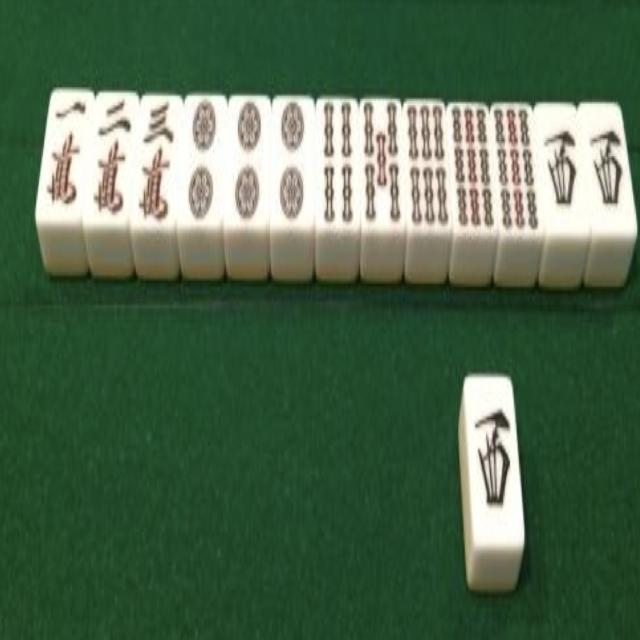bamboos_4: (315, 92, 361, 233)
bamboos_5: (358, 95, 406, 237)
bamboos_6: (402, 96, 452, 238)
bamboos_9: (445, 98, 499, 239), (491, 98, 545, 236)
characters_1: (36, 86, 94, 222)
characters_2: (83, 87, 140, 227)
characters_3: (131, 90, 183, 230)
circles_2: (178, 90, 227, 233), (268, 92, 315, 234), (226, 90, 270, 233)
west: (464, 374, 524, 550), (534, 100, 592, 238), (580, 99, 638, 233)
